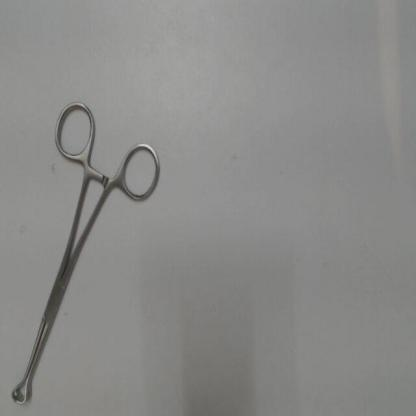Babcock Tissue Forceps: (7, 94, 165, 410)
